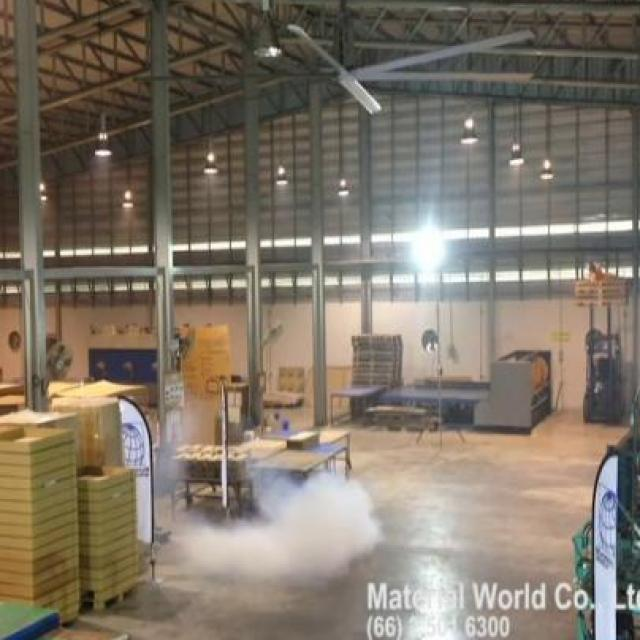fire: (191, 471, 390, 582)
